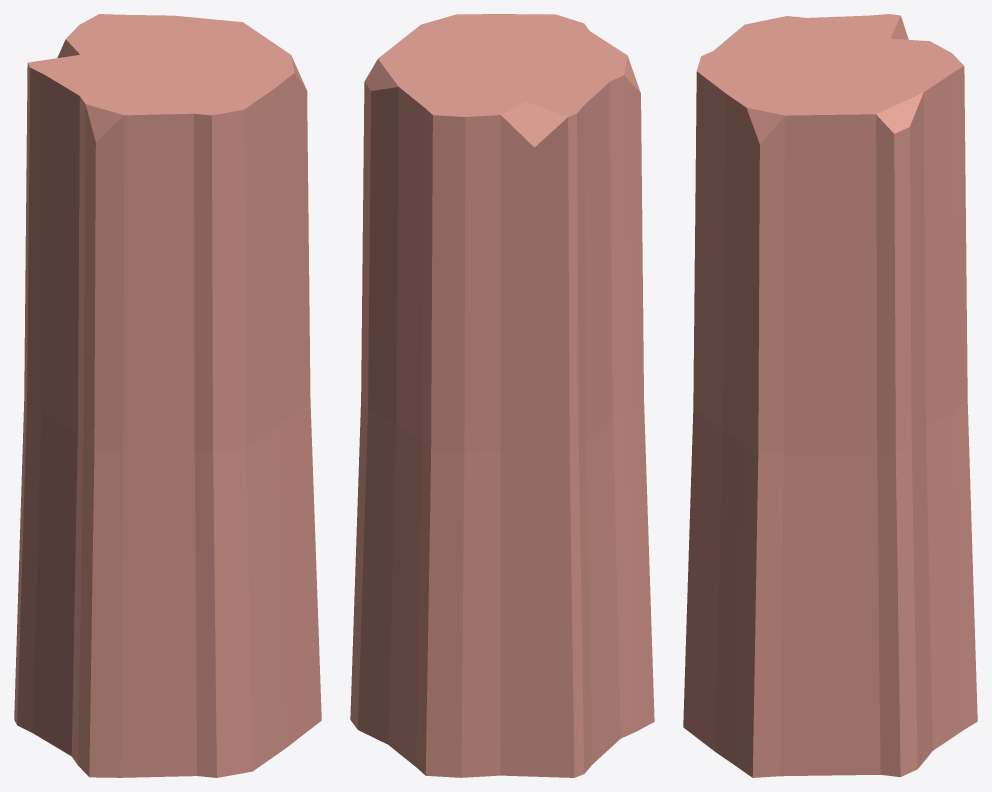
The model's file is SuperGrid_Hexagon_017_Vlad.fbx.
3 views of the same model, side by side, from view 1: azimuth 30°, elevation 25°; view 2: azimuth 150°, elevation 25°; view 3: azimuth 270°, elevation 25° (orthographic).
Visible parts, largest first — view 1: SuperGrid_Hexagon.017; view 2: SuperGrid_Hexagon.017; view 3: SuperGrid_Hexagon.017.
Part boxes in pixels (<box>): SuperGrid_Hexagon.017: <box>14,14,321,777</box>; SuperGrid_Hexagon.017: <box>350,14,654,777</box>; SuperGrid_Hexagon.017: <box>683,14,977,777</box>.
Size of the model in its own units: 18566 by 50000 by 20359.
